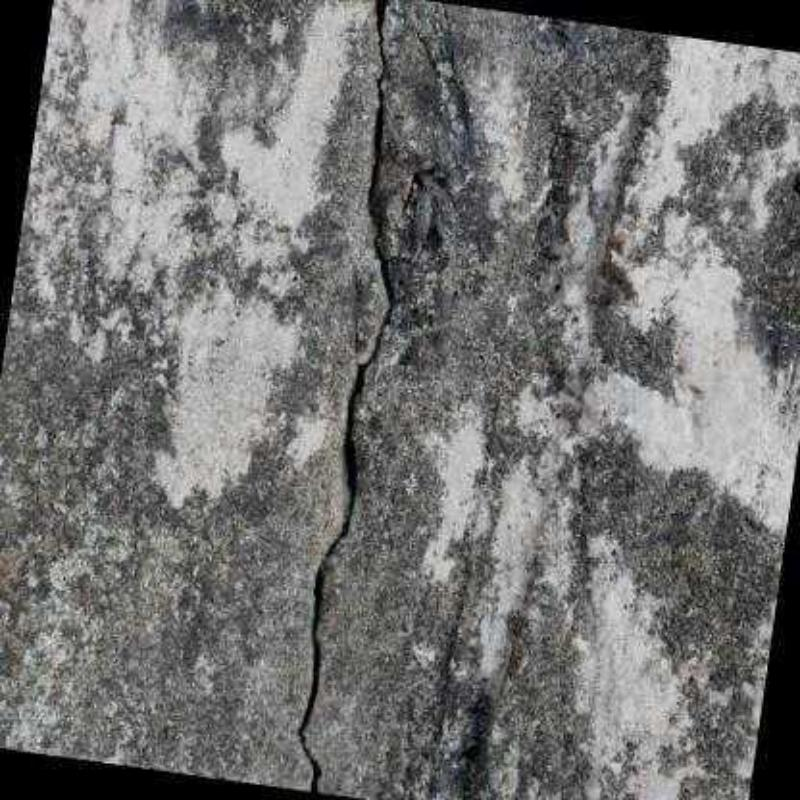crack: (292, 0, 399, 793)
